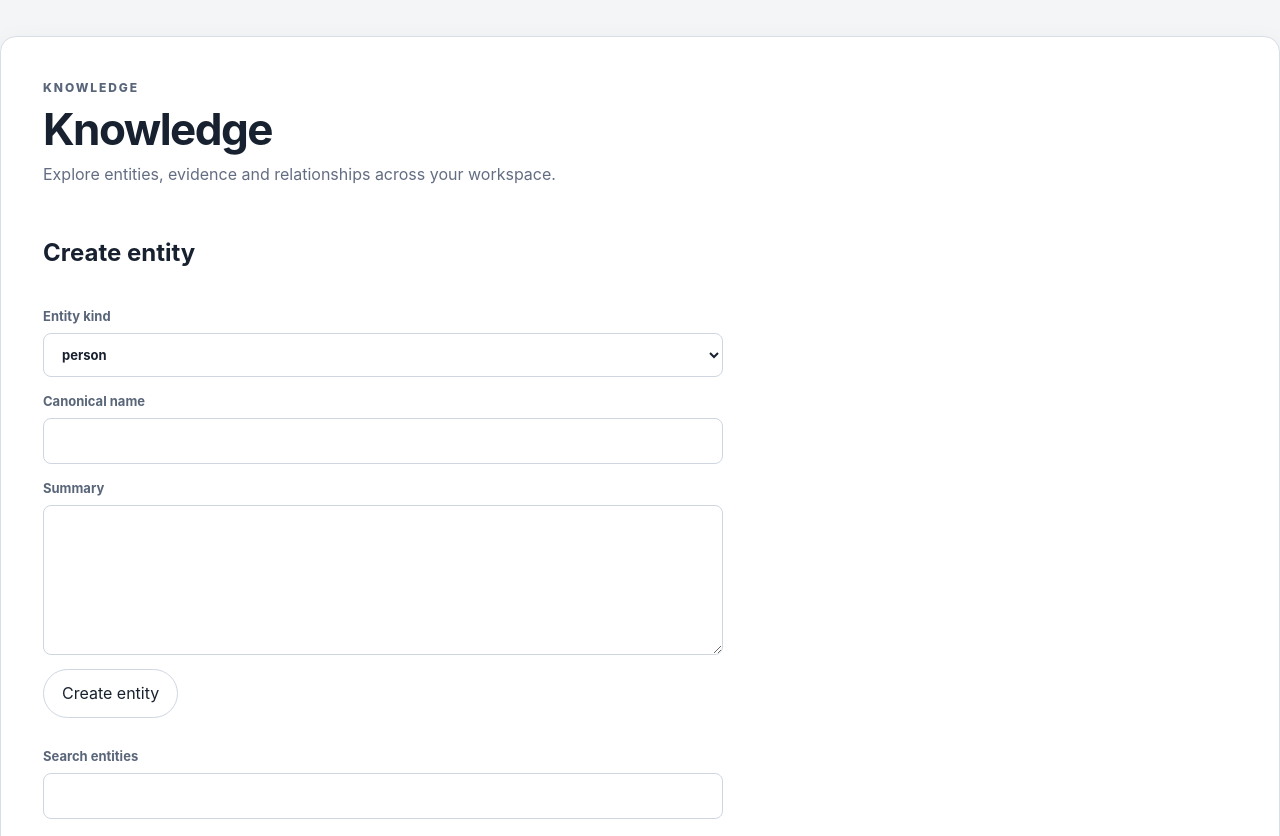
it: EntityExplorer › offers "team" as a selectable kind and creates one
Select "team" in the dropdown labelled "Entity kind" at [383, 355], box [43,333,723,377]
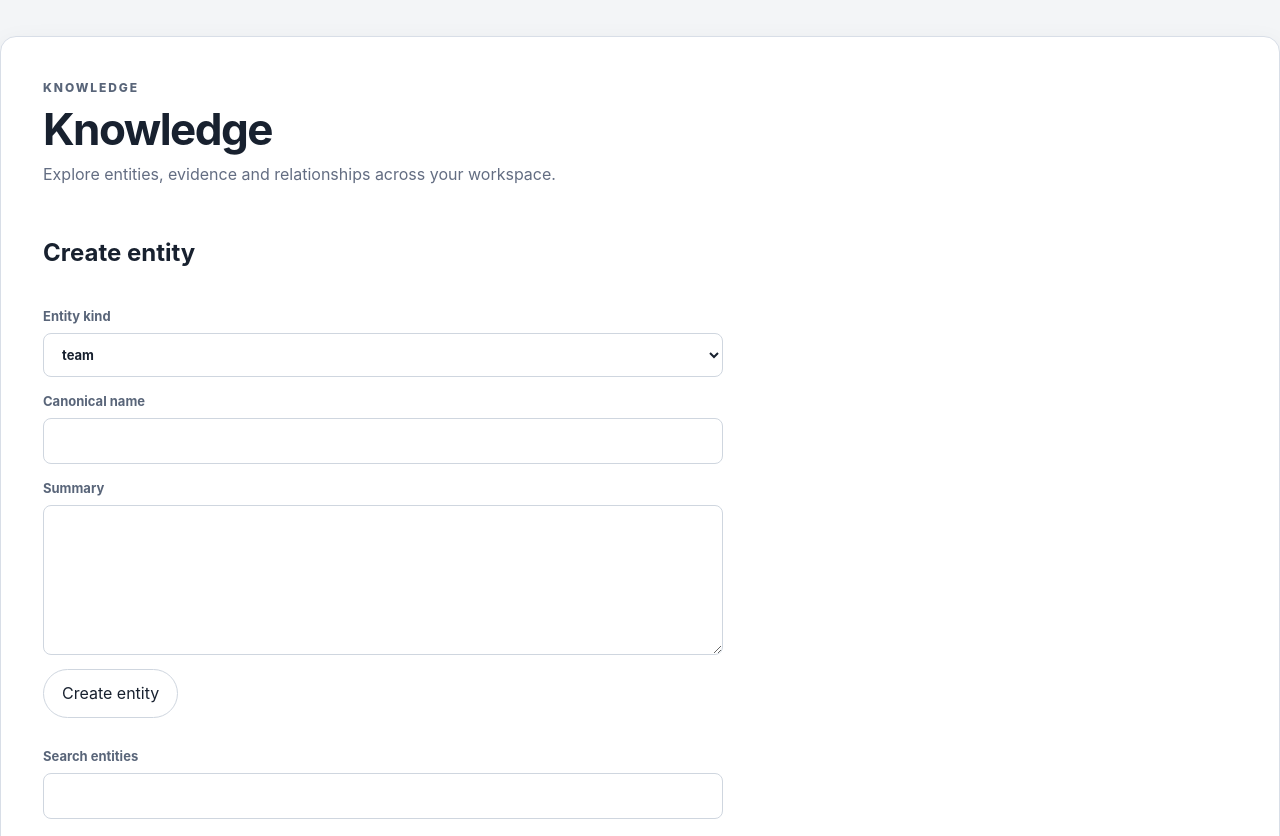
Type "Platform Engineering" into the field labelled "Canonical name".
click(383, 441); type("Platform Engineering")  # box [43,418,723,464]
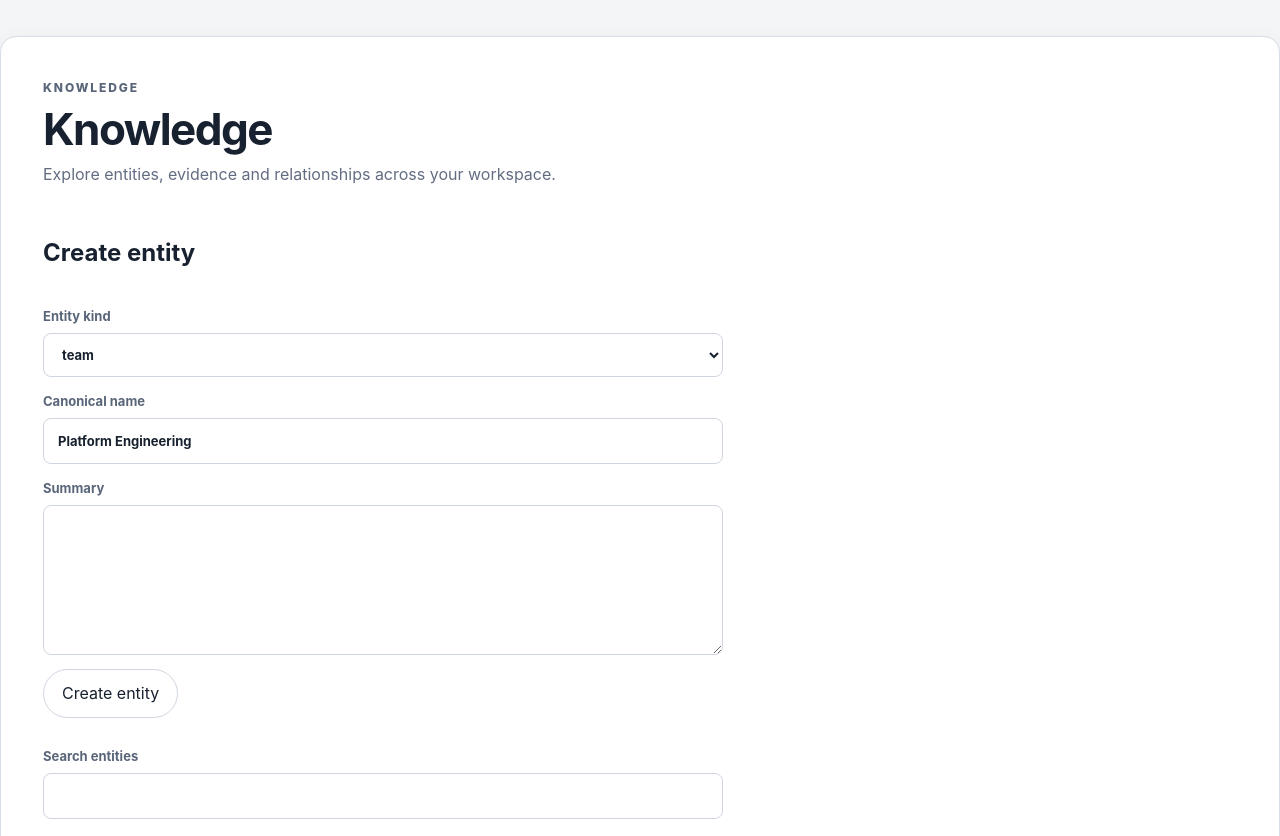
Click the button "Create entity".
click(111, 694)  # box [43,669,178,718]
(page scrolled)
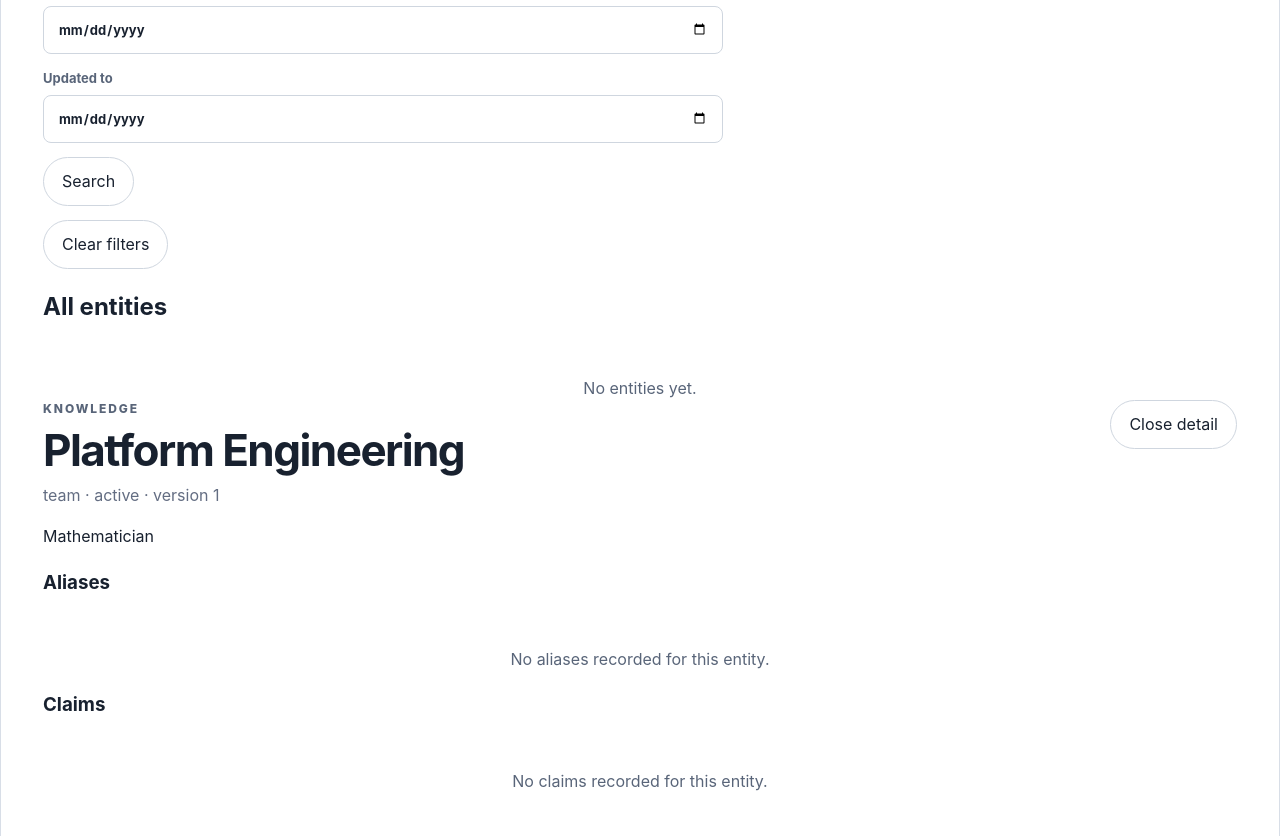
Expected: the heading "Platform Engineering" is shown, [43,427,464,473]
